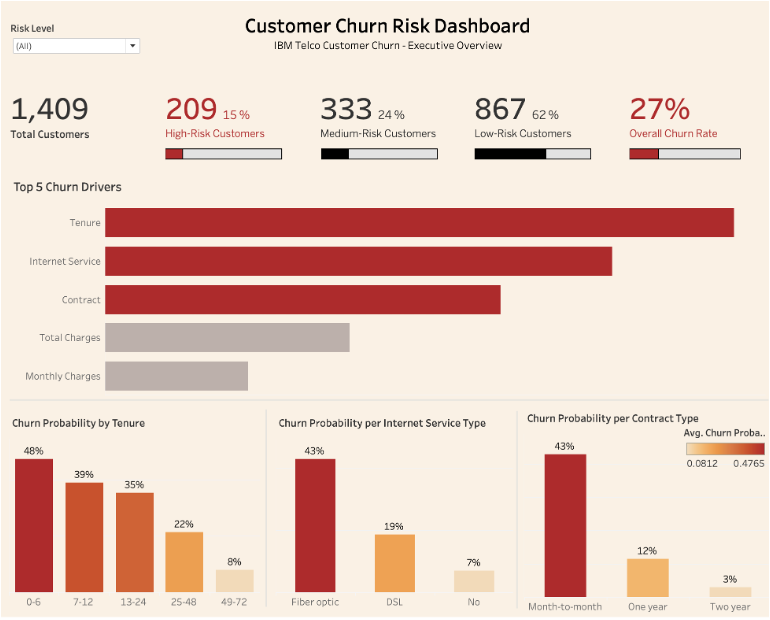

The dashboard page shown, as its layout file describes it:
{"tool":"tableau","page":{"name":"Customer Churn Risk Dashboard","canvas":[1000,800],"ordinal":0},"visuals":[{"type":"text","box":[8,8,984,81]},{"type":"filter","title":"Avg Predicted Churn Probability Per Contract Type","param":"[federated.1nfs4zu15t9jli11f1fdd1p8ebzs].[none:Risk_Level:nk]","box":[20,35,168,52]},{"type":"worksheet","title":"Total Customers","mark":"Automatic","box":[8,89,196.8,129]},{"type":"worksheet","title":"High Risk","mark":"Automatic","box":[204.8,89,196.8,129]},{"type":"worksheet","title":"Medium Risk","mark":"Automatic","box":[401.6,89,196.8,129]},{"type":"worksheet","title":"Low Risk","mark":"Automatic","box":[598.4,89,196.8,129]},{"type":"worksheet","title":"Overall Churn Rate","mark":"Automatic","box":[795.2,89,196.8,129]},{"type":"worksheet","title":"High Risk Bar","mark":"Bar","cols":["CustomerID","Calculation_2565081517303582722"],"box":[217,195,155,17]},{"type":"worksheet","title":"Medium Risk Bar","mark":"Bar","cols":["CustomerID","Calculation_2565081517303513089"],"box":[415,195,155,17]},{"type":"worksheet","title":"Low Risk Bar","mark":"Bar","cols":["CustomerID","Calculation_2565081517303435264"],"box":[610,195,155,17]},{"type":"worksheet","title":"Churn Rate Bar","mark":"Bar","cols":["Calculation_2565081517316141063","Churn_Actual"],"box":[807,195,148,17]},{"type":"worksheet","title":"Top 5 Churn Drivers","mark":"Automatic","rows":["Driver"],"cols":["Importance Score"],"box":[8,218,984,303.6]},{"type":"blank","box":[19,515,965,2]},{"type":"worksheet","title":"Avg Predicted Churn Probability by Tenure","mark":"Automatic","rows":["Churn_Probability"],"cols":["Tenure_Group"],"box":[8,521.6,338.7,270.4]},{"type":"worksheet","title":"Avg Predicted Churn Probability Per Internet Service Type","mark":"Automatic","rows":["Churn_Probability"],"cols":["InternetService"],"box":[346.7,521.6,322.7,270.4]},{"type":"worksheet","title":"Avg Predicted Churn Probability Per Contract Type","mark":"Automatic","rows":["Churn_Probability"],"cols":["Contract"],"box":[669.3,521.6,322.7,270.4]},{"type":"blank","box":[344,528,2,251]},{"type":"blank","box":[663,530,2,251]},{"type":"legend","title":"Avg Predicted Churn Probability by Tenure","param":"[federated.1nfs4zu15t9jli11f1fdd1p8ebzs].[avg:Churn_Probability:qk]","box":[876,549,108,52]}]}

Visuals, with their boxes in screenshot pixels (x1, y1, x2, y2), scaled from the page's 1000x800 canvas onto the 770x620 screenshot:
text: select_region(6, 6, 764, 69)
"Avg Predicted Churn Probability Per Contract Type" filter: select_region(15, 27, 145, 67)
"Total Customers" worksheet: select_region(6, 69, 158, 169)
"High Risk" worksheet: select_region(158, 69, 309, 169)
"Medium Risk" worksheet: select_region(309, 69, 461, 169)
"Low Risk" worksheet: select_region(461, 69, 612, 169)
"Overall Churn Rate" worksheet: select_region(612, 69, 764, 169)
"High Risk Bar" worksheet (Bar marks): select_region(167, 151, 286, 164)
"Medium Risk Bar" worksheet (Bar marks): select_region(320, 151, 439, 164)
"Low Risk Bar" worksheet (Bar marks): select_region(470, 151, 589, 164)
"Churn Rate Bar" worksheet (Bar marks): select_region(621, 151, 735, 164)
"Top 5 Churn Drivers" worksheet: select_region(6, 169, 764, 404)
blank: select_region(15, 399, 758, 401)
"Avg Predicted Churn Probability by Tenure" worksheet: select_region(6, 404, 267, 614)
"Avg Predicted Churn Probability Per Internet Service Type" worksheet: select_region(267, 404, 515, 614)
"Avg Predicted Churn Probability Per Contract Type" worksheet: select_region(515, 404, 764, 614)
blank: select_region(265, 409, 266, 604)
blank: select_region(511, 411, 512, 605)
"Avg Predicted Churn Probability by Tenure" legend: select_region(675, 425, 758, 466)
